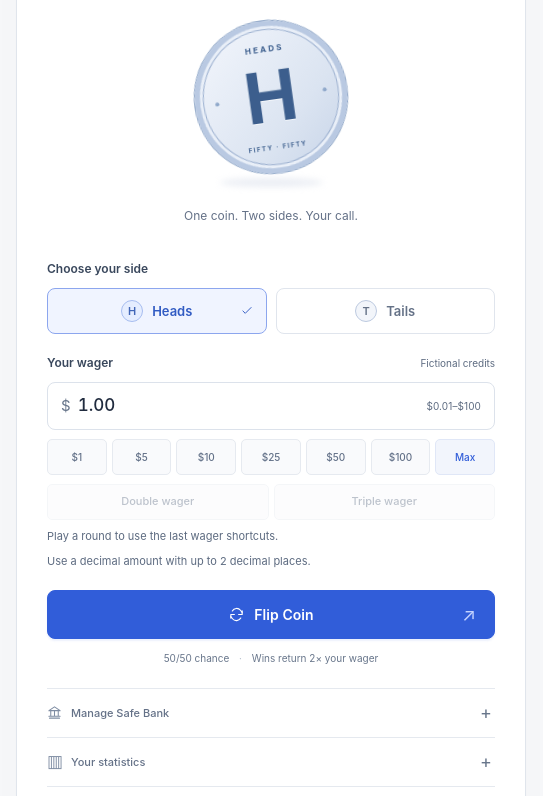
Scenario: preserves an unaffordable input rather than silently clamping the next wager
The width and height of the screenshot is (543, 796).
(page scrolled)
Step 1. Replace the text in the field labelled "Your wager Fictional credits" with "100.00" → (248, 406), box [78,383,419,428]
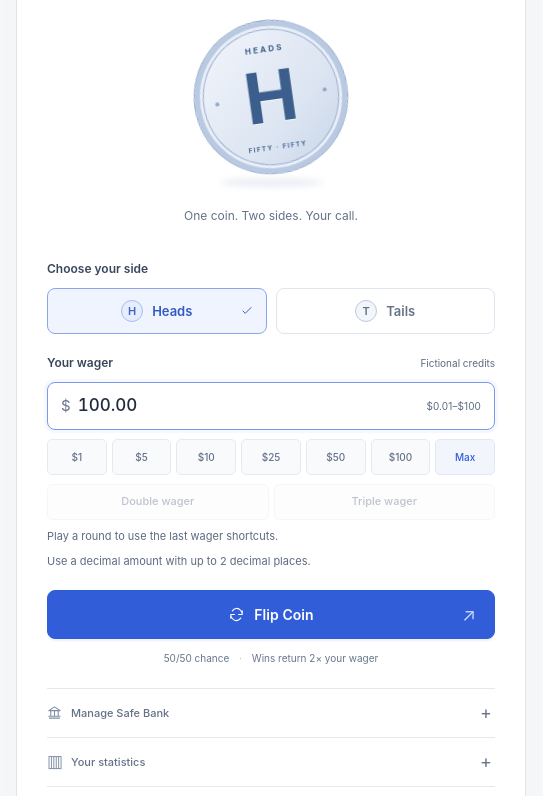
Step 2. Click the text "Manage Safe Bank" → (108, 713), box [47,705,169,720]
(page scrolled)
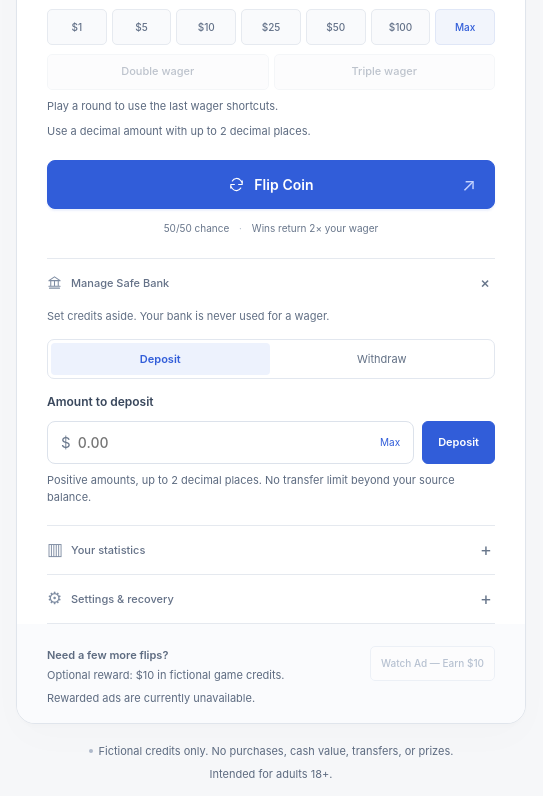
Step 3. Type "100" into the field labelled "Amount to deposit" → (222, 442), box [78,422,366,463]
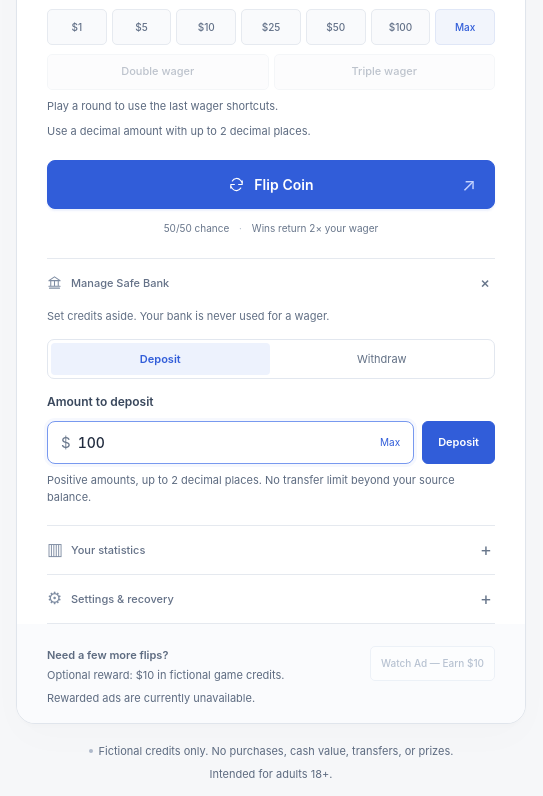
Step 4. Click the button "Deposit" → (459, 442), box [422,421,495,464]
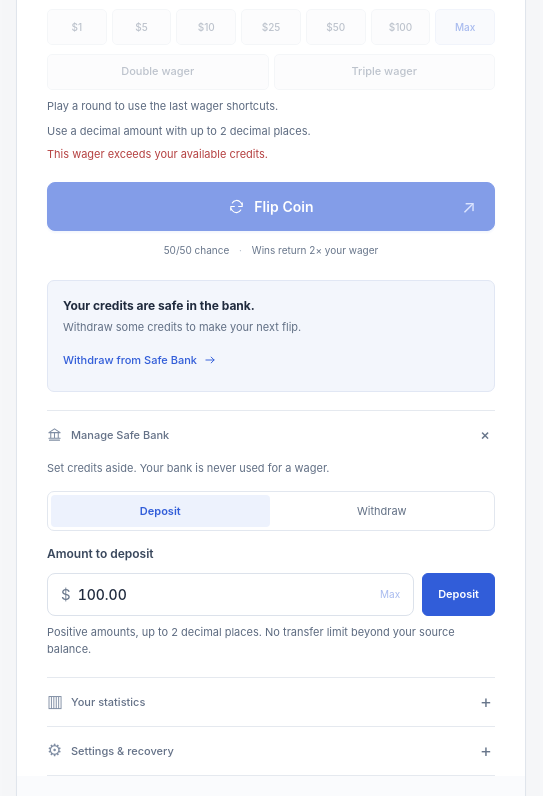
expect the button "Flip Coin ↗" is disabled: met, box [47,182,495,231]
expect the text "This wager exceeds your available credits." is shown: met, box [47,147,268,161]
expect the button "Withdraw from Safe Bank" is shown: met, box [63,342,217,378]
